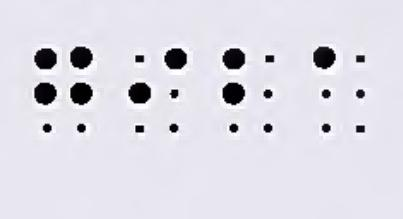letter_a: (313, 46, 365, 134)
letter_b: (223, 48, 274, 133)
letter_g: (35, 47, 93, 133)
letter_i: (128, 48, 188, 134)
